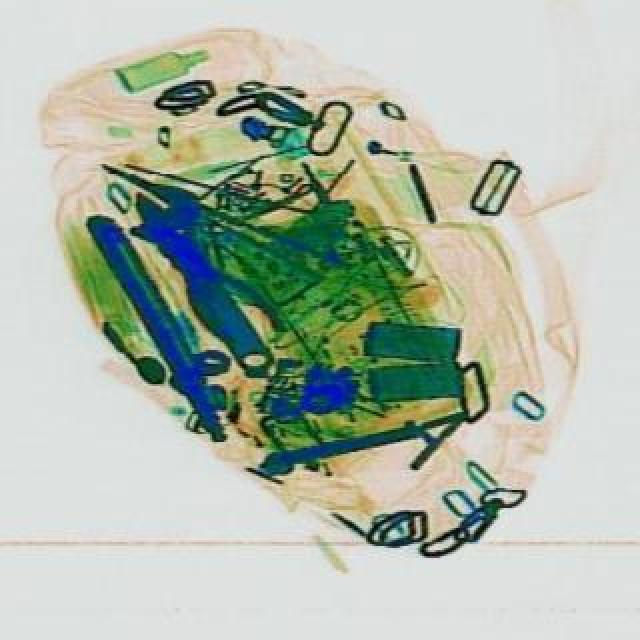scissors: (130, 174, 294, 388)
wrench: (102, 162, 346, 286), (130, 208, 294, 368)
